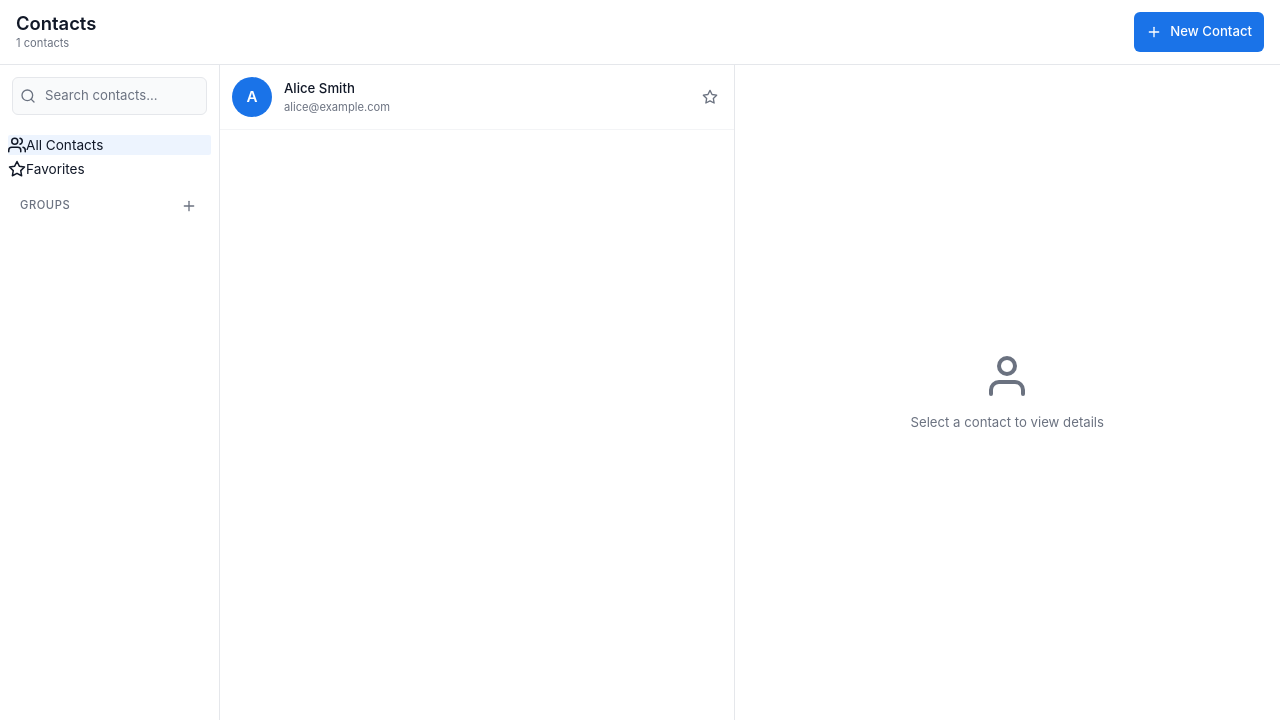
Test case: ContactsPanel - Contact detail view › shows phone number in contact detail when contact has phone
Click the text "Alice Smith". click: click(319, 88)
box: [284,80,355,96]
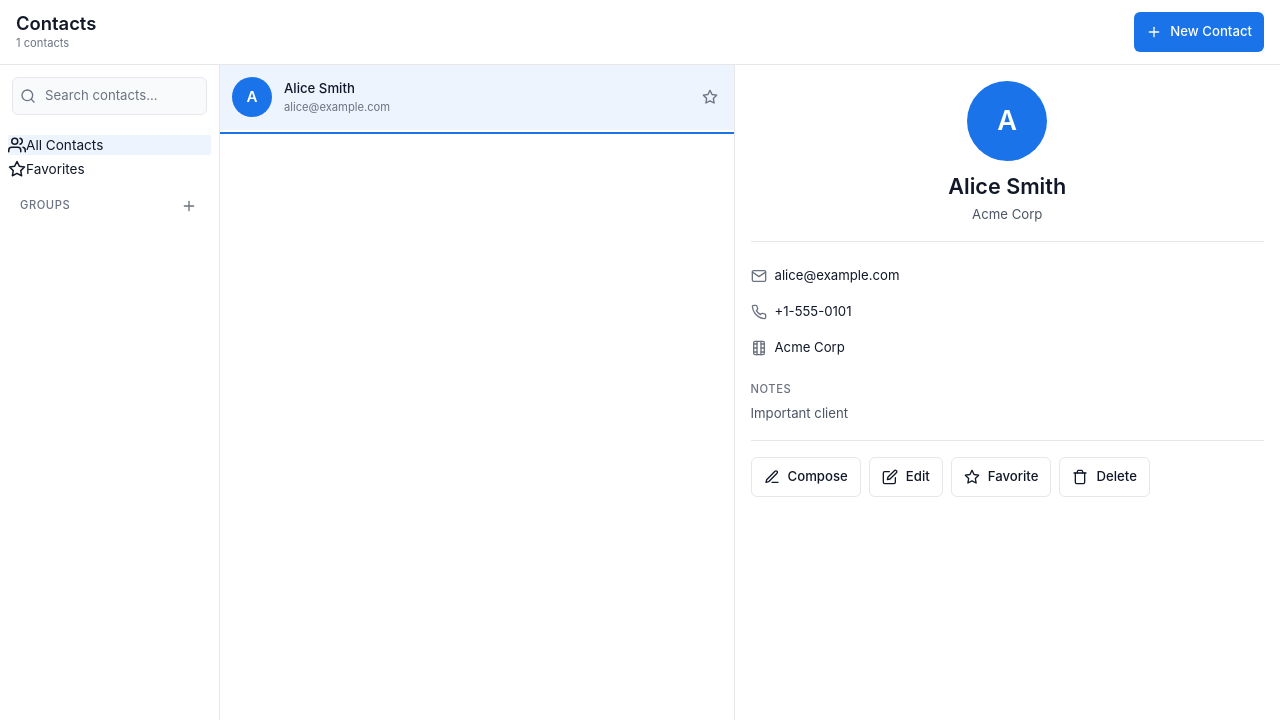
Now the text "+1-555-0101" is shown, box [774,302,852,322]
